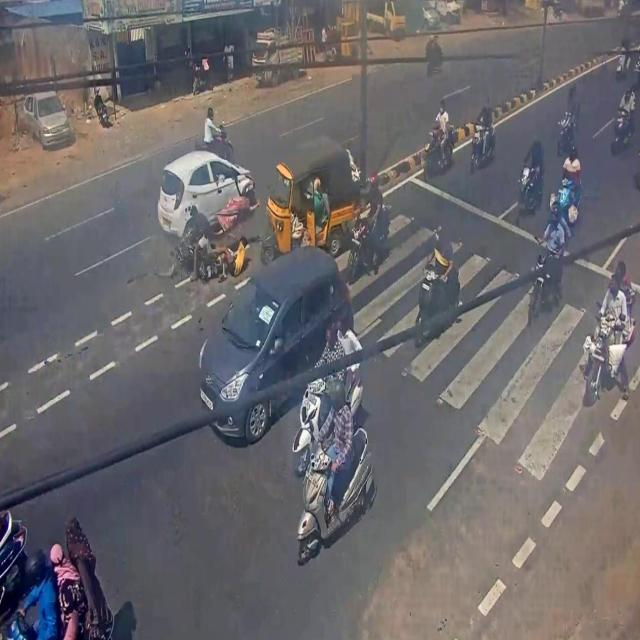accident: (149, 136, 267, 296)
non_accident: (200, 247, 380, 579)
